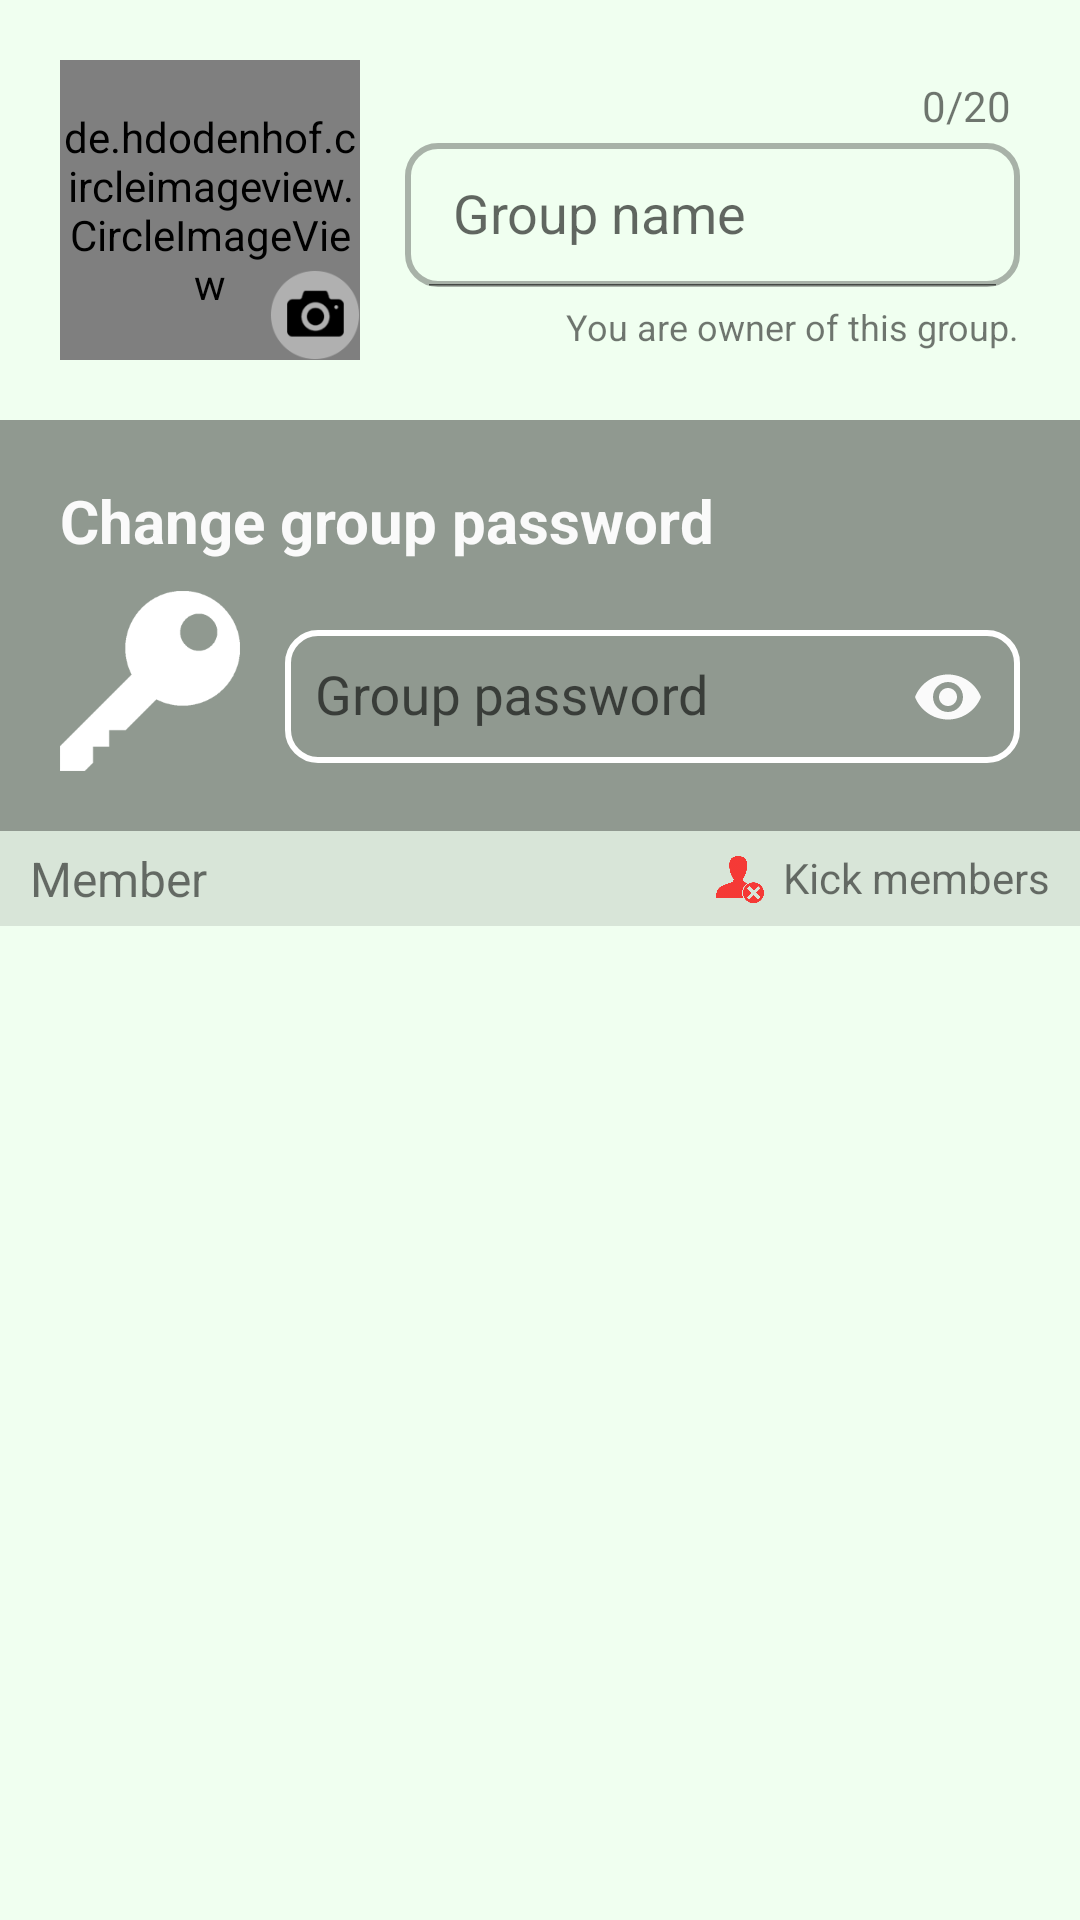

Named icons in this screenshot (1080 × 1920) and their centers, [x,y]:
camera: [315,315]
key: [150,681]
